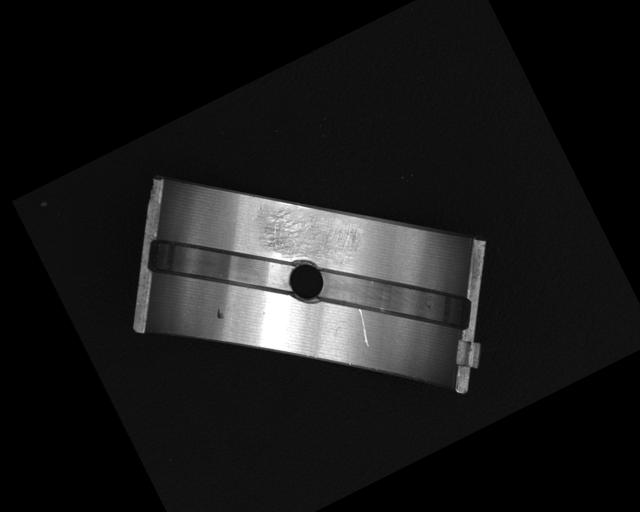bruise: (213, 306, 226, 321)
gap: (308, 224, 475, 375), (139, 194, 297, 339)
hole: (280, 256, 331, 308)
nick: (351, 308, 377, 347)
scratch: (253, 181, 371, 292)
